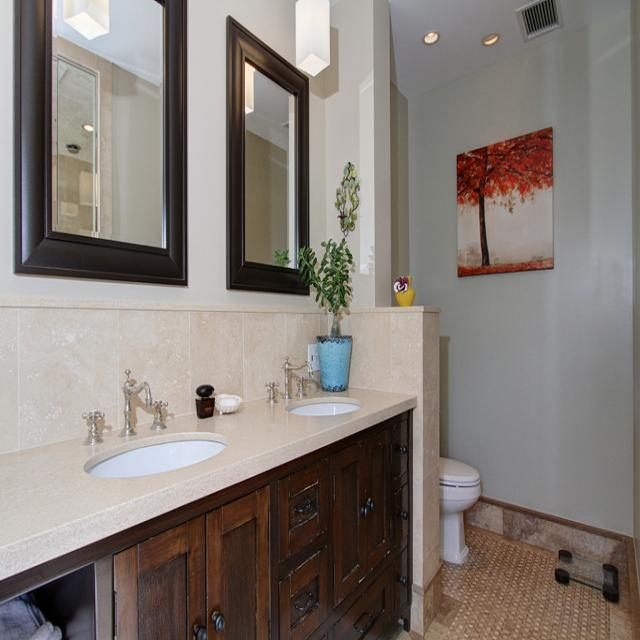Handle: (179, 601, 208, 640), (295, 590, 323, 627), (205, 597, 231, 636), (349, 607, 379, 637), (397, 496, 425, 528), (393, 561, 421, 592), (395, 434, 421, 466), (360, 491, 385, 522), (296, 484, 321, 515)
tap: (119, 364, 152, 435), (278, 335, 310, 399)
toilet: (436, 450, 505, 572)
wash basin: (89, 434, 231, 498), (280, 389, 402, 448)
